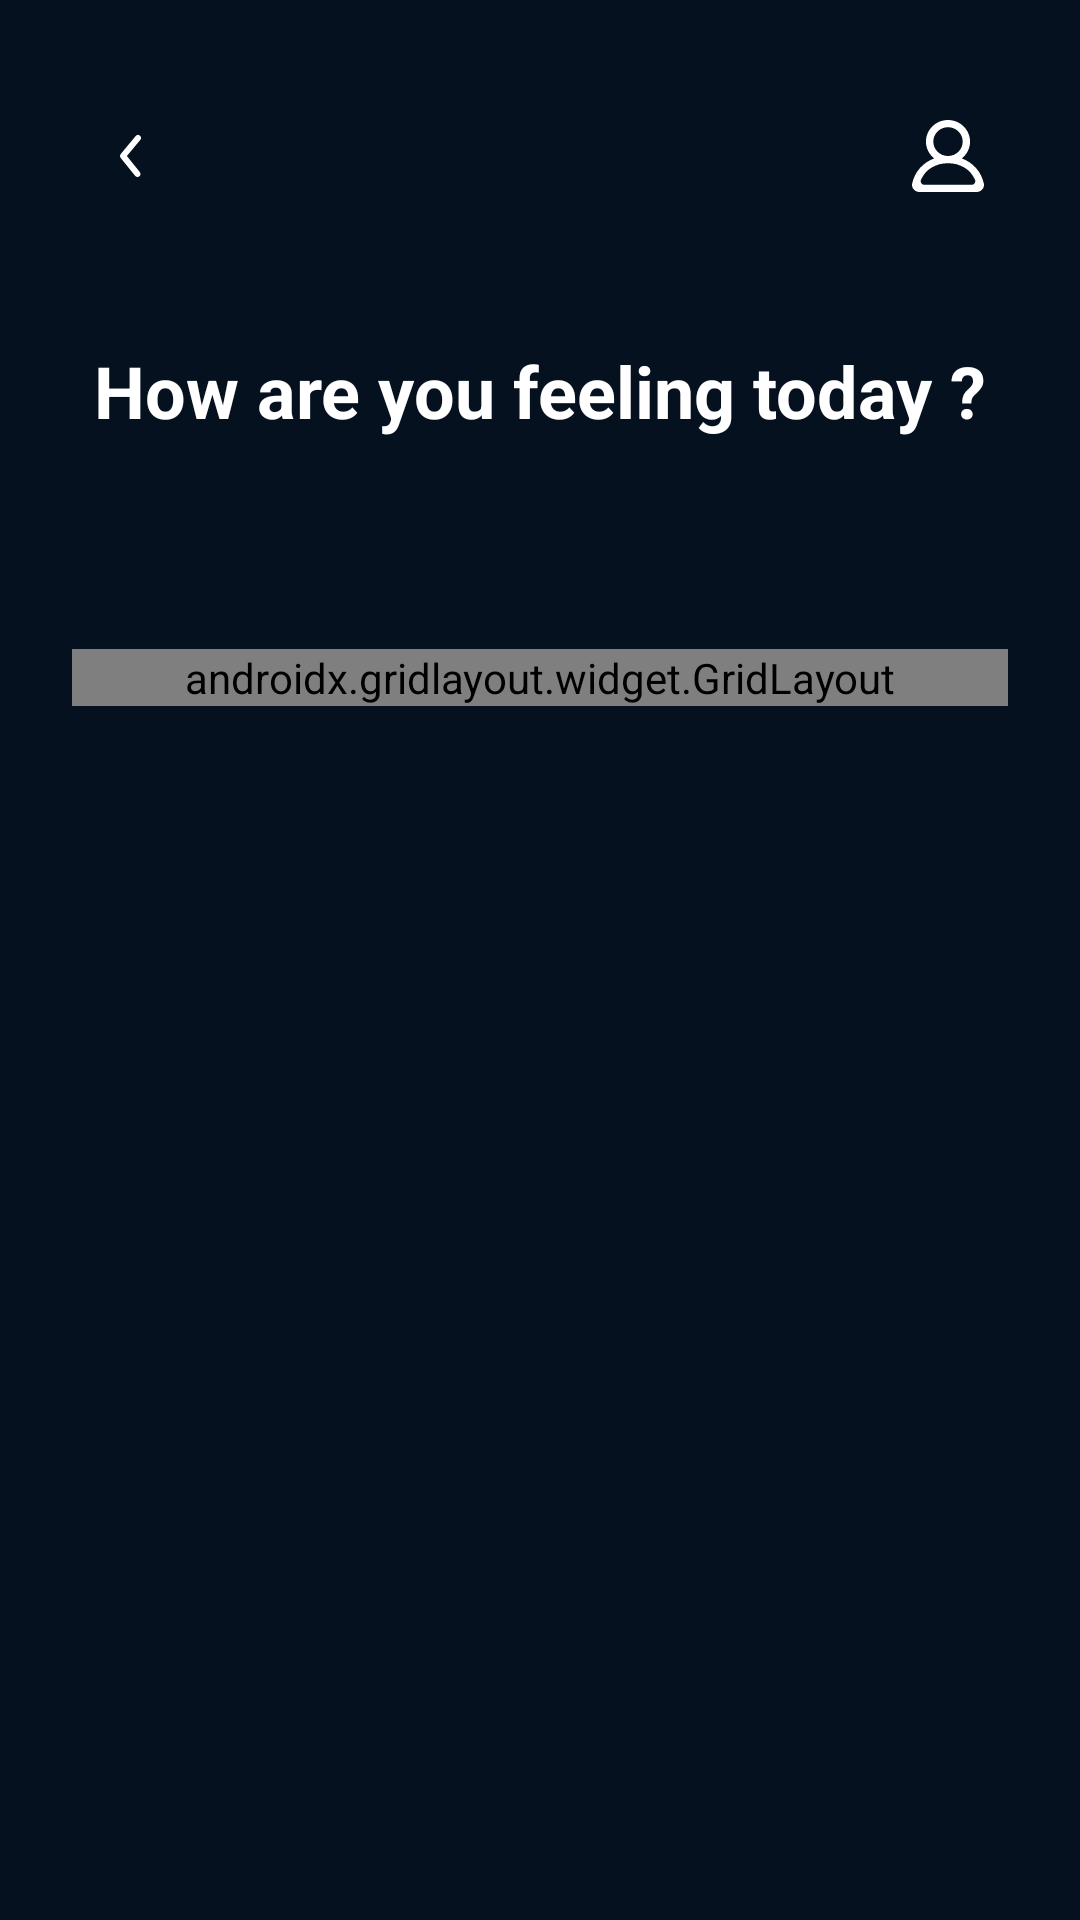

Where icons sit on this 1080px×1920px app screen, as (x1, y1, x2, y2):
Back: (120, 135, 141, 177)
Profile: (912, 120, 984, 192)
